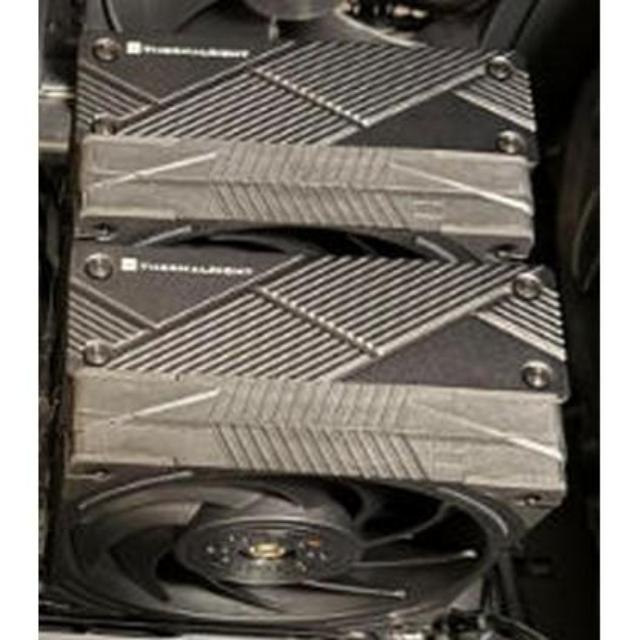CPU_Fan: (65, 24, 552, 628)
